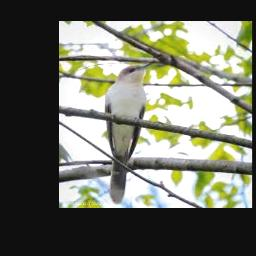Cuckoo: (106, 63, 153, 203)
